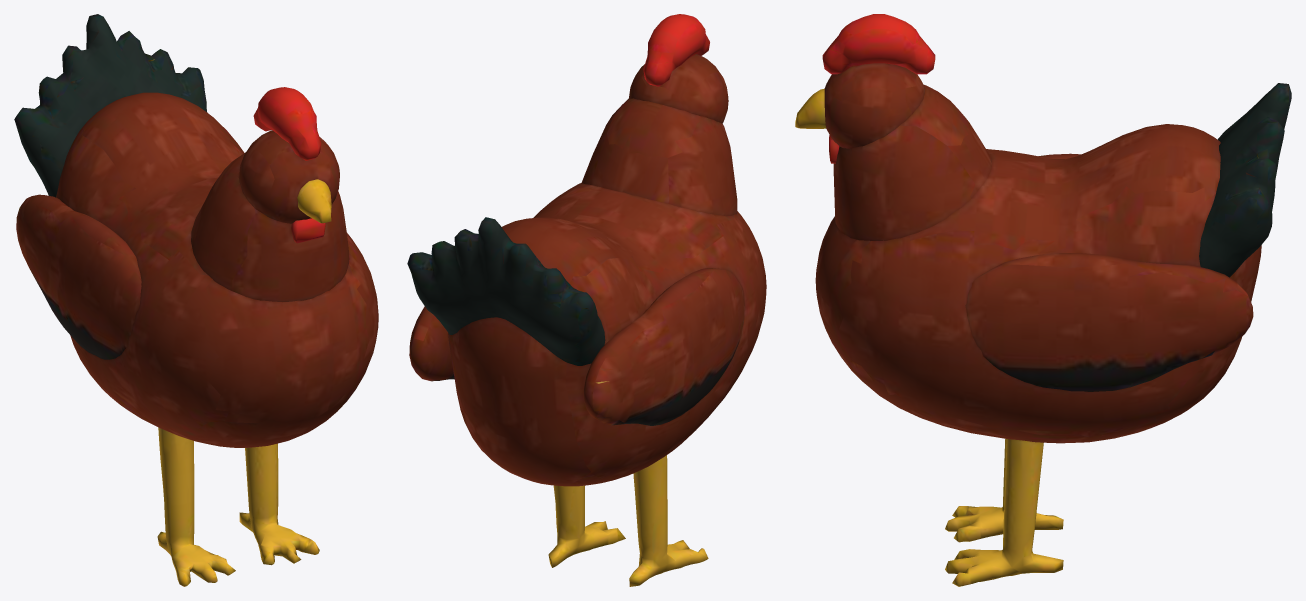
The model's file is animal_rhode_island_red.glb.
3 renders of one model, left to right at view 1: azimuth 30°, elevation 25°; view 2: azimuth 150°, elevation 25°; view 3: azimuth 270°, elevation 25°, orthographic. The views are drawn at different scales.
Parts seen in each view (by area): view 1: animal_rhode_island_red, head, leg0, leg1; view 2: animal_rhode_island_red, head, leg0, leg1; view 3: animal_rhode_island_red, head, leg1, leg0.
Part boxes in pixels (x1,y1,x2,y2): animal_rhode_island_red: (14, 14, 378, 447); head: (239, 87, 339, 243); leg0: (157, 427, 235, 586); leg1: (239, 443, 319, 565); animal_rhode_island_red: (407, 98, 766, 486); head: (629, 14, 728, 123); leg0: (629, 455, 708, 586); leg1: (548, 485, 625, 567); animal_rhode_island_red: (815, 83, 1291, 443); head: (795, 14, 935, 163); leg1: (945, 439, 1063, 586); leg0: (945, 438, 1063, 542).
Size of the model in its own units: 0.1382 by 0.278 by 0.2331.
Materials: 1 (1 with a texture image).
